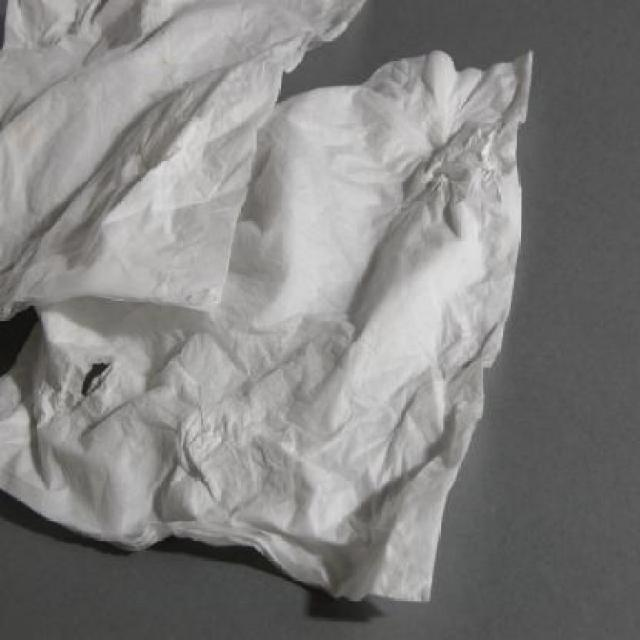plastic bag: (0, 51, 529, 600), (0, 0, 368, 314)
